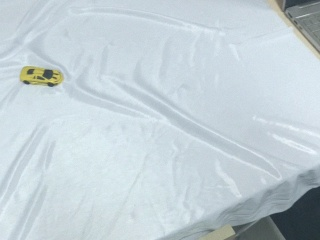toy_car: (20, 66, 64, 87)
